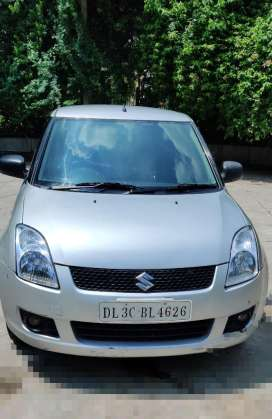nameplate: (99, 301, 192, 320)
